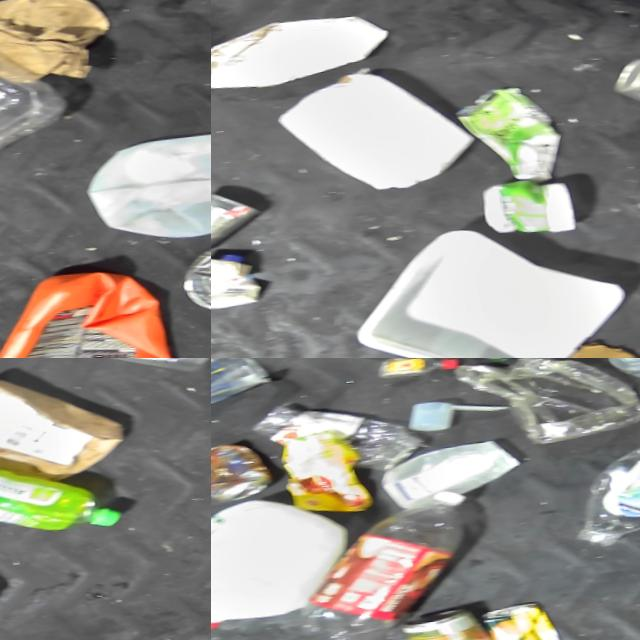can: (211, 431, 282, 507), (211, 179, 268, 255), (384, 604, 489, 640), (485, 598, 564, 640), (599, 56, 640, 125), (594, 358, 640, 389)
milk_jug: (211, 491, 363, 636), (73, 134, 211, 253)
non_white_jug: (0, 424, 111, 556), (0, 272, 167, 358)
plastic_bottle: (278, 488, 487, 640), (0, 17, 51, 168)
